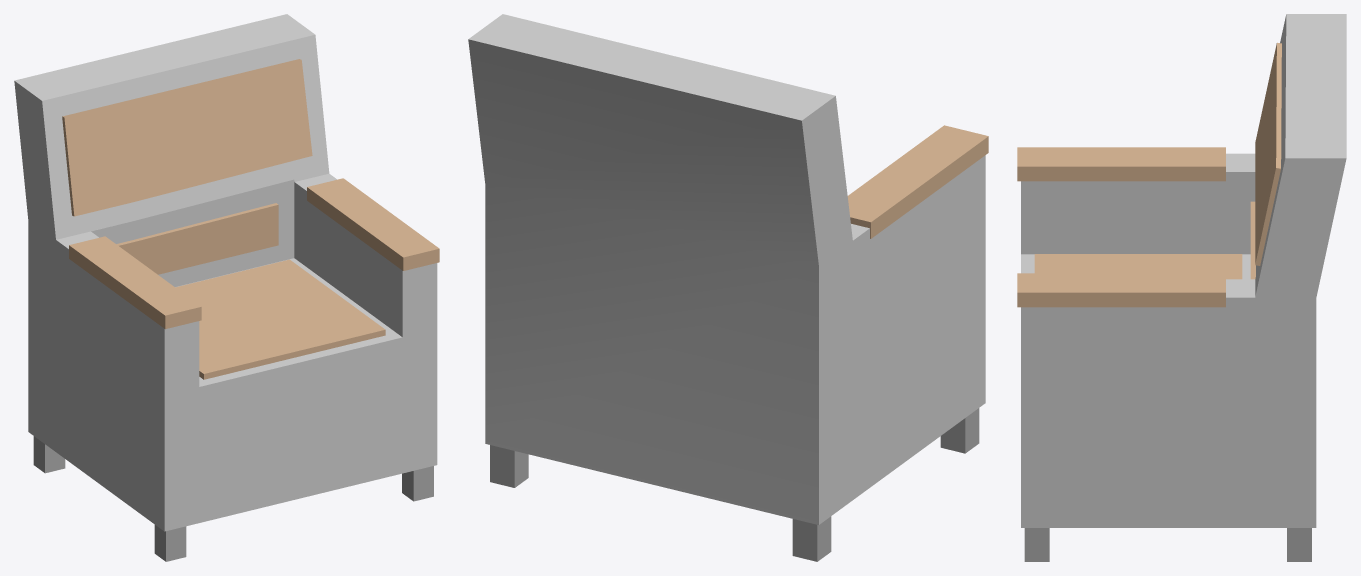
The model's file is chair.fbx.
3 views of the same model, side by side, from view 1: azimuth 30°, elevation 25°; view 2: azimuth 150°, elevation 25°; view 3: azimuth 270°, elevation 25° (orthographic). The views are drawn at different scales.
Parts seen in each view (by area): view 1: Cube; view 2: Cube; view 3: Cube.
Boxes of the visible parts, box(x1,y1,x2,y2) form: Cube: box(14, 14, 439, 561); Cube: box(468, 14, 988, 561); Cube: box(1017, 14, 1346, 561).
Bounding box in the file's own units: 29.62 × 38.52 × 28.4.
